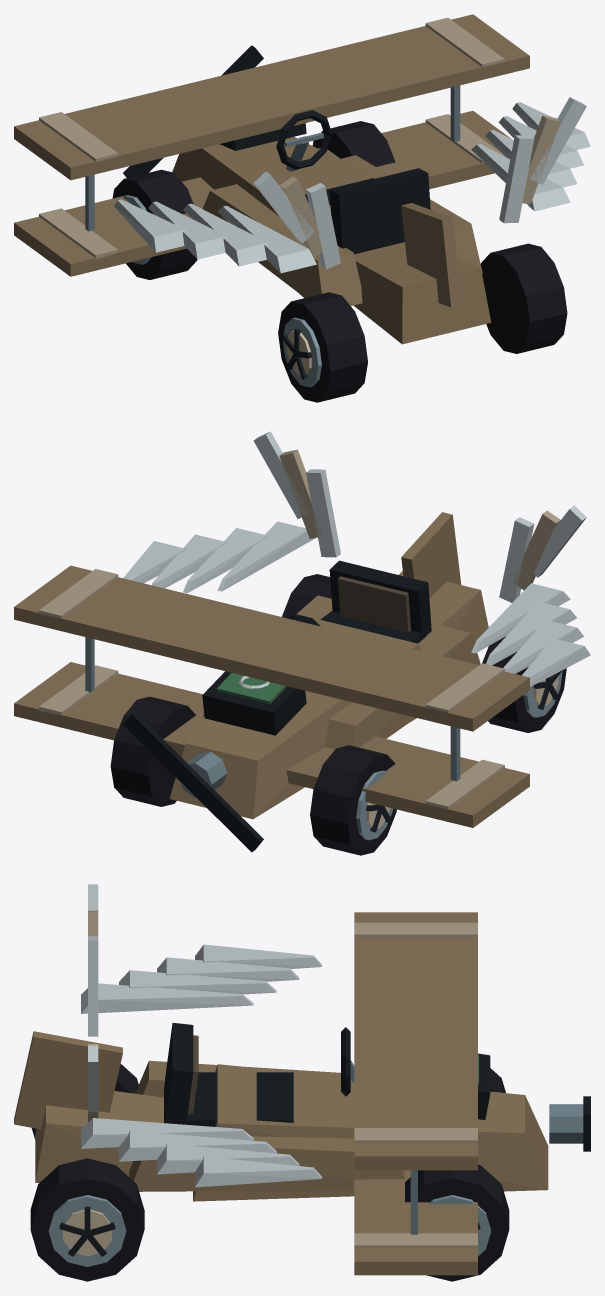
File: kart.glb
3 views of the same model, one above another, from view 1: azimuth 30°, elevation 25°; view 2: azimuth 150°, elevation 25°; view 3: azimuth 270°, elevation 25° (orthographic). The views are drawn at different scales.
Visible parts, largest first — view 1: identity-biplane-biplane-dual-wings-and-propeller, identity-biplane-motif-wings-feather, identity-biplane-motif-feathers, wheel-rear-left, identity-biplane-driver-cockpit, wheel-rear-right, wheel-front-left, wheel-front-right, identity-biplane-motif-scanner; view 2: identity-biplane-biplane-dual-wings-and-propeller, identity-biplane-motif-wings-feather, identity-biplane-motif-feathers, wheel-front-left, identity-biplane-driver-cockpit, wheel-front-right, identity-biplane-motif-scanner, wheel-rear-left, wheel-rear-right; view 3: identity-biplane-biplane-dual-wings-and-propeller, identity-biplane-motif-wings-feather, wheel-rear-right, identity-biplane-driver-cockpit, wheel-front-right, identity-biplane-motif-feathers, identity-biplane-motif-scanner.
Boxes of the visible parts, x1,y1,x2,y2 form: identity-biplane-biplane-dual-wings-and-propeller: (14, 14, 529, 344); identity-biplane-motif-wings-feather: (113, 102, 590, 273); identity-biplane-motif-feathers: (253, 97, 586, 269); wheel-rear-left: (278, 292, 367, 402); identity-biplane-driver-cockpit: (276, 110, 430, 254); wheel-rear-right: (480, 243, 567, 353); wheel-front-left: (112, 169, 197, 279); wheel-front-right: (312, 121, 395, 166); identity-biplane-motif-scanner: (219, 123, 306, 150); identity-biplane-biplane-dual-wings-and-propeller: (14, 512, 529, 852); identity-biplane-motif-wings-feather: (123, 521, 590, 686); identity-biplane-motif-feathers: (253, 431, 586, 602); wheel-front-left: (310, 745, 396, 855); identity-biplane-driver-cockpit: (287, 560, 431, 643); wheel-front-right: (110, 696, 195, 806); identity-biplane-motif-scanner: (202, 671, 306, 735); wheel-rear-left: (482, 636, 566, 732); wheel-rear-right: (282, 574, 331, 618); identity-biplane-biplane-dual-wings-and-propeller: (14, 912, 590, 1275); identity-biplane-motif-wings-feather: (81, 944, 321, 1187); wheel-rear-right: (30, 1158, 144, 1281); identity-biplane-driver-cockpit: (164, 1023, 354, 1126); wheel-front-right: (405, 1164, 509, 1281); identity-biplane-motif-feathers: (88, 884, 98, 1122); identity-biplane-motif-scanner: (478, 1053, 490, 1120).
Bounding box in the file's own units: 3.04 × 1.47 × 3.04.
